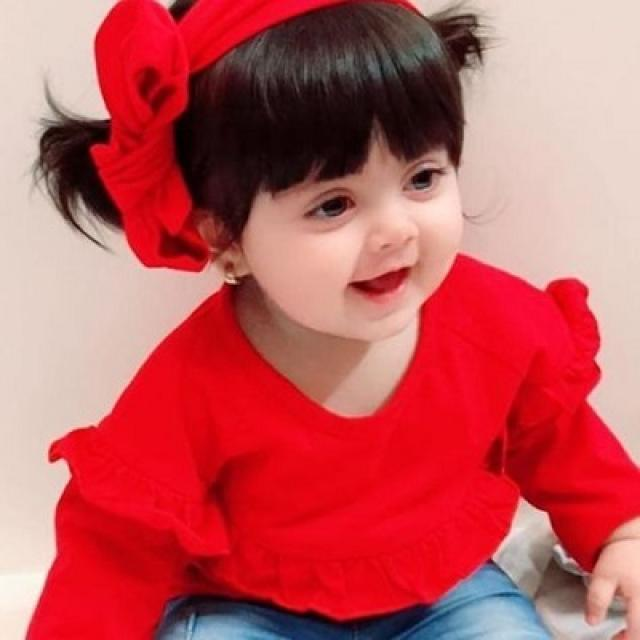non-dog: (4, 3, 640, 634)
